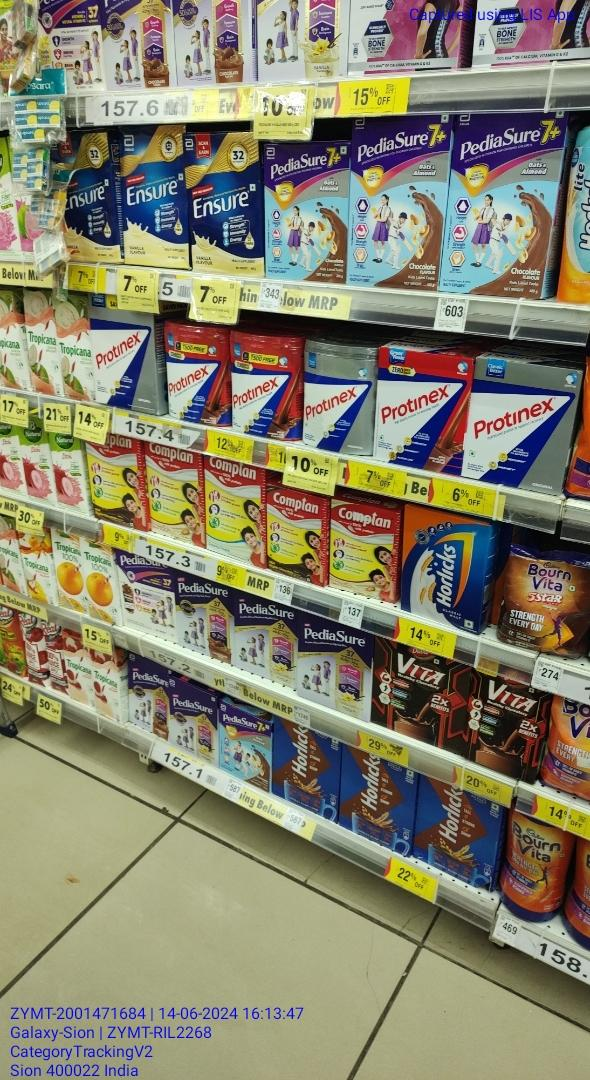BOURN_VITA_500_G_JAR: (500, 807, 563, 928)
BOURN_VITA_FIVE_STAR_MAGIC_500_G_POUCH: (503, 544, 590, 658)
COMPLAN_CHOCOLATE_1_KG_PACK: (90, 432, 144, 528)
COMPLAN_CHOCOLATE_200_GMS_PACK: (265, 486, 326, 584)
COMPLAN_KESAR_BADAM_200_GMS_PACK: (328, 498, 397, 601)
COMPLAN_KESAR_BADAM_500_GMS_PACK: (146, 444, 204, 547)
ENSURE_VANILLA_400_G_PACK: (188, 131, 262, 278), (126, 130, 187, 270)
PEDIASURE_7_PLUS_CHOCOLATE_400_G_PACK: (265, 138, 347, 285), (217, 702, 271, 795)
PEDIASURE_CHOCOLATE_500_G_PACK: (126, 656, 166, 739)
PEDIASURE_VANILLA_500_G_PACK: (299, 616, 373, 725), (234, 592, 296, 687), (170, 683, 217, 763)
PROTINEX_CHOCOLATE_400_G_JAR: (231, 333, 299, 436), (164, 326, 228, 425)
PROTINEX_ORIGINAL_400_G_JAR: (305, 340, 373, 455)
